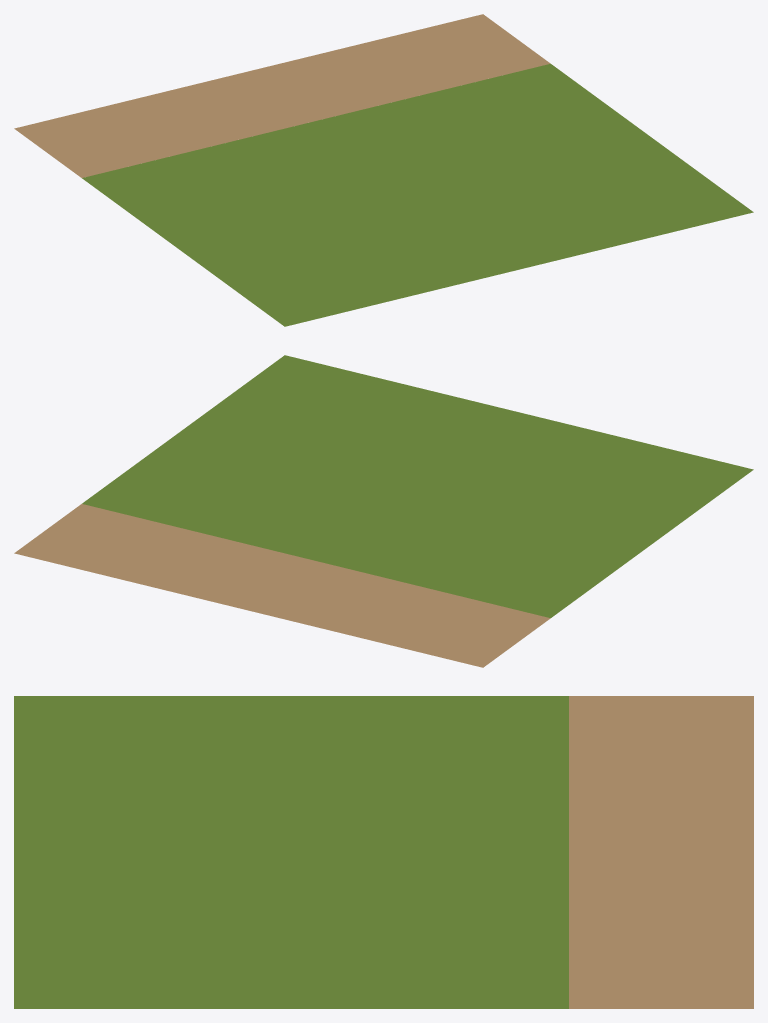
File: cure-0-3.glb
3 views of the same model, one above another, from view 1: azimuth 30°, elevation 25°; view 2: azimuth 150°, elevation 25°; view 3: azimuth 270°, elevation 25° (orthographic). The views are drawn at different scales.
Visible parts, largest first — view 1: cure-0-3; view 2: cure-0-3; view 3: cure-0-3.
Boxes of the visible parts, left/top/right/bottom form: cure-0-3: left=14, top=14, right=753, bottom=326; cure-0-3: left=14, top=355, right=753, bottom=667; cure-0-3: left=14, top=696, right=753, bottom=1008.
Size of the model in its own units: 100 by 0.002 by 100.
